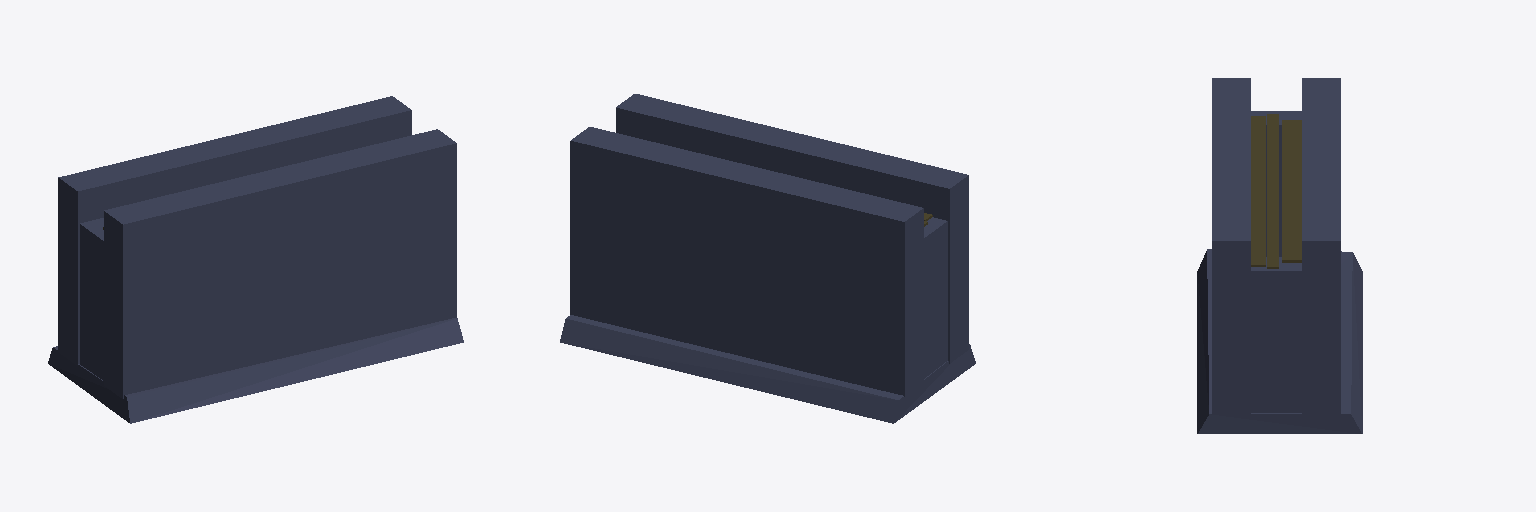
File: castlewall.obj
3 views of the same model, side by side, from view 1: azimuth 30°, elevation 25°; view 2: azimuth 150°, elevation 25°; view 3: azimuth 270°, elevation 25° (orthographic).
Visible parts, largest first — view 1: group1 pCube2, group1 pCube1, group1 castlewall:Platform, group1 castlewall:Wall_004; view 2: group1 pCube1, group1 pCube2, group1 castlewall:Platform, group1 castlewall:Wall_004; view 3: group1 pCube1, group1 pCube2, group1 castlewall:Platform, castlewall:Wall_002group1 group1, group1 castlewall:Plank_001, group1 castlewall:Plank_003, group1 castlewall:Plank_002, group1 castlewall:Wall_004.
Part boxes in pixels (x1,y1,x2,y2): group1 pCube2: (104, 129, 456, 398); group1 pCube1: (58, 96, 411, 365); group1 castlewall:Platform: (48, 318, 463, 423); group1 castlewall:Wall_004: (80, 218, 103, 380); group1 pCube1: (570, 127, 923, 396); group1 pCube2: (616, 94, 968, 363); group1 castlewall:Platform: (560, 315, 975, 423); group1 castlewall:Wall_004: (924, 217, 947, 378); group1 pCube1: (1302, 78, 1340, 414); group1 pCube2: (1212, 78, 1250, 414); group1 castlewall:Platform: (1197, 249, 1362, 433); castlewall:Wall_002group1 group1: (1251, 257, 1301, 412); group1 castlewall:Plank_001: (1282, 120, 1301, 262); group1 castlewall:Plank_003: (1251, 116, 1265, 266); group1 castlewall:Plank_002: (1267, 114, 1278, 268); group1 castlewall:Wall_004: (1251, 111, 1301, 256).
Bounding box in the file's own units: 100 × 55.47 × 42.77.